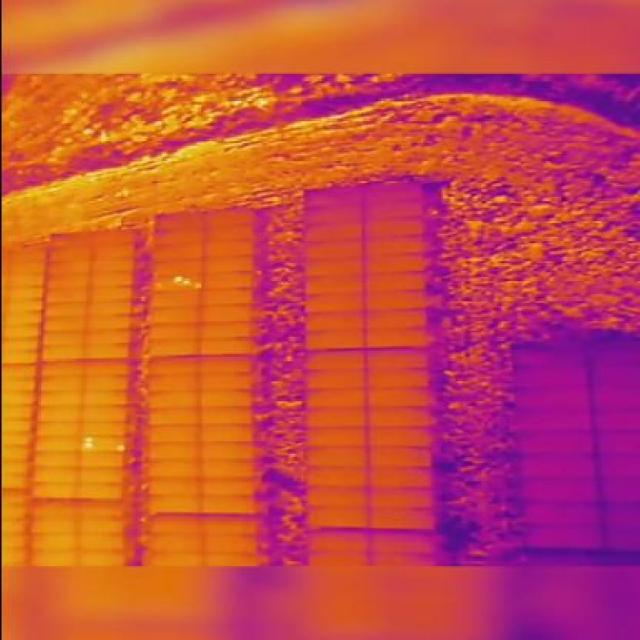hotspot: (171, 275, 186, 283), (112, 444, 126, 450), (194, 284, 203, 290), (81, 442, 90, 446), (80, 438, 95, 440)
